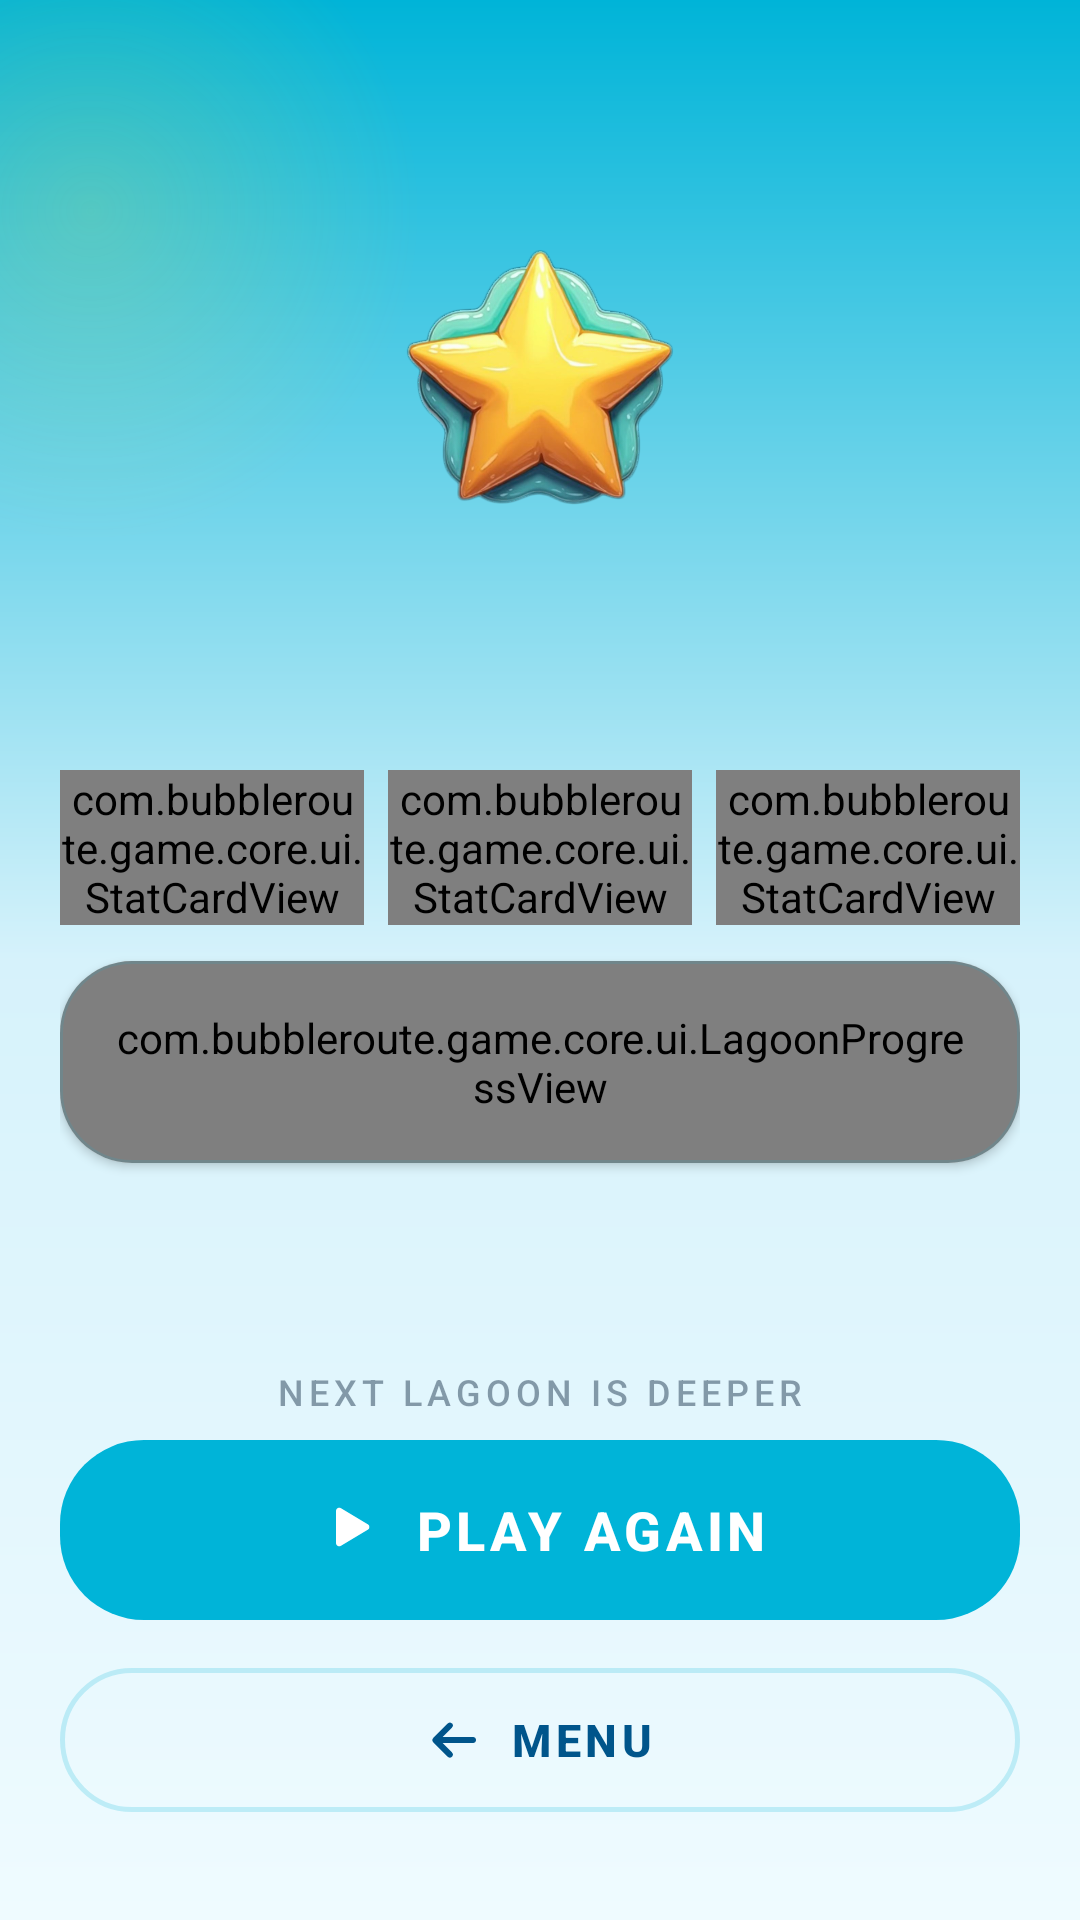

Screen size 1080*1920. Icon name, then its center in pixels as (x,y):
Lagoon star badge: (540,377)
